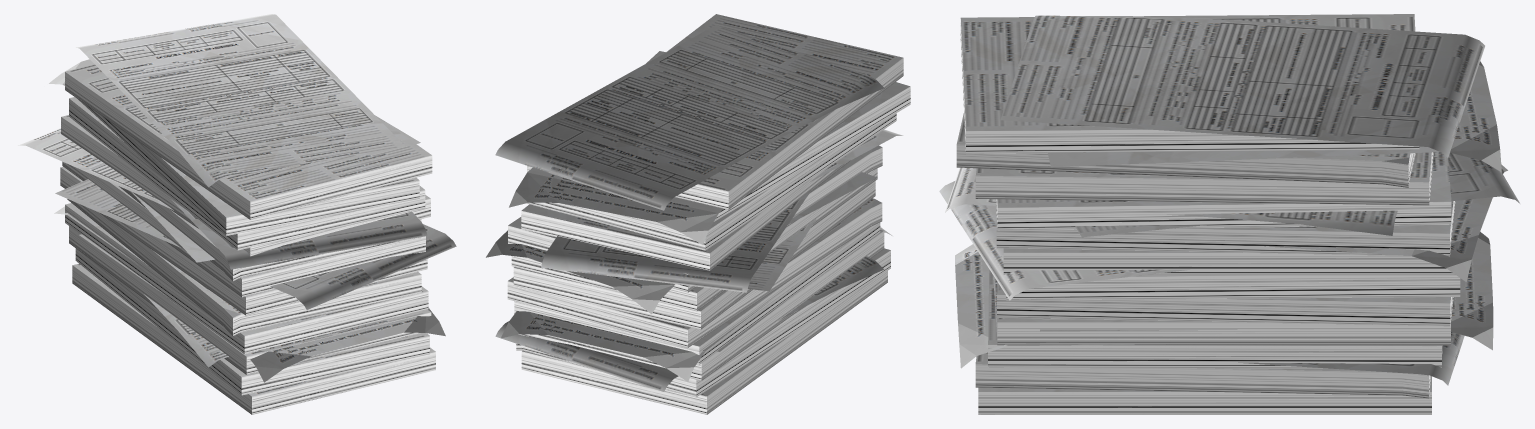
File: stack3.gltf
3 views of the same model, side by side, from view 1: azimuth 30°, elevation 25°; view 2: azimuth 150°, elevation 25°; view 3: azimuth 270°, elevation 25° (orthographic). The views are drawn at different scales.
Visible parts, largest first — view 1: paper_stack3; view 2: paper_stack3; view 3: paper_stack3.
Part boxes in pixels (x1=…): paper_stack3: x1=18, y1=14, x2=456, y2=414; paper_stack3: x1=486, y1=14, x2=910, y2=414; paper_stack3: x1=939, y1=14, x2=1519, y2=414.
Size of the model in its own units: 0.2004 by 0.1602 by 0.3002.
Materials: 1 (1 with a texture image).
